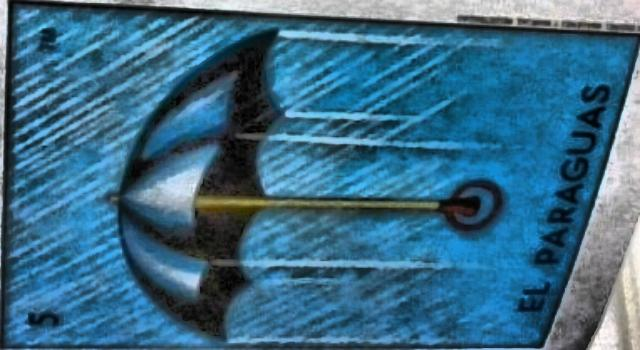El Paraguas: (2, 1, 638, 348)
